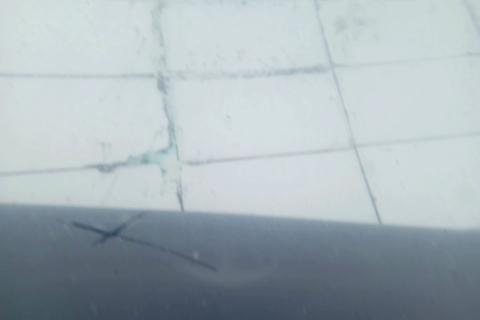keretakan: (57, 209, 219, 274)
